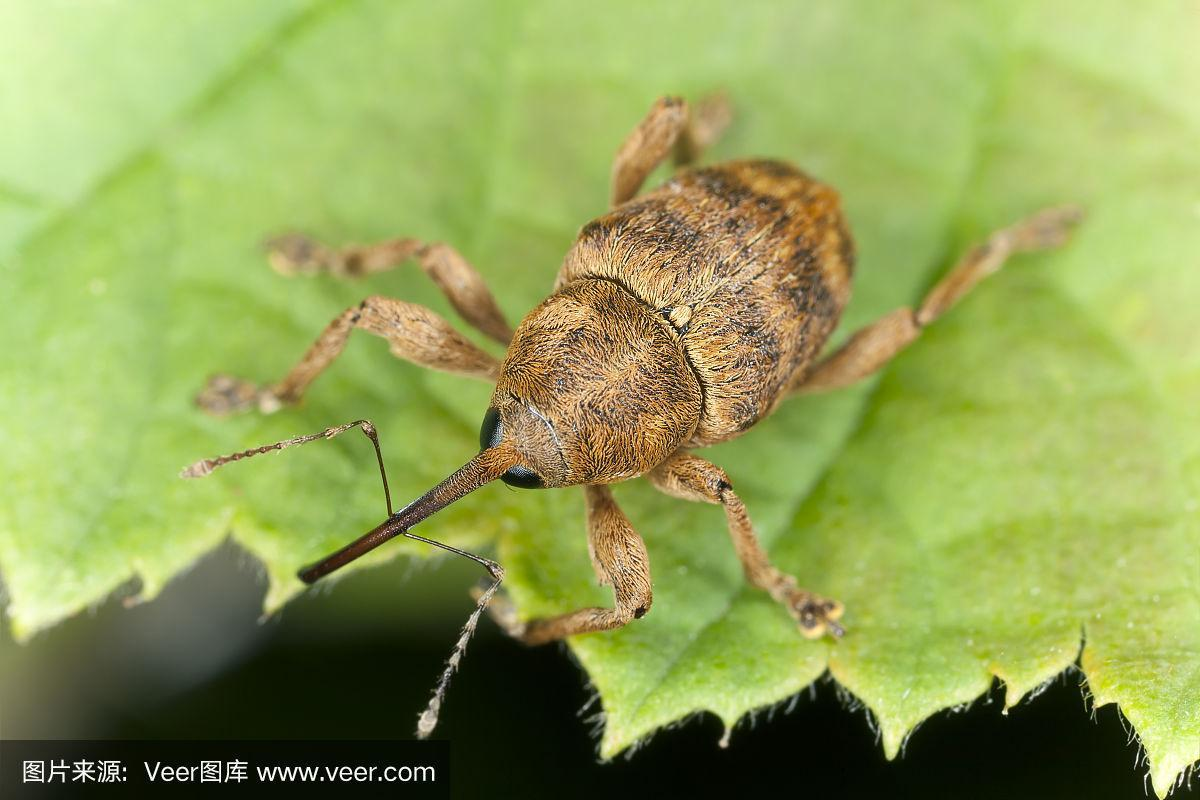Curculionidae: (177, 85, 1081, 743)
